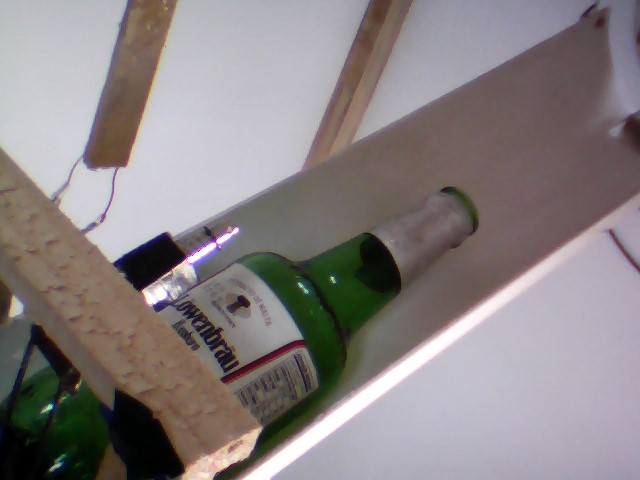vidrio: (200, 174, 494, 435)
